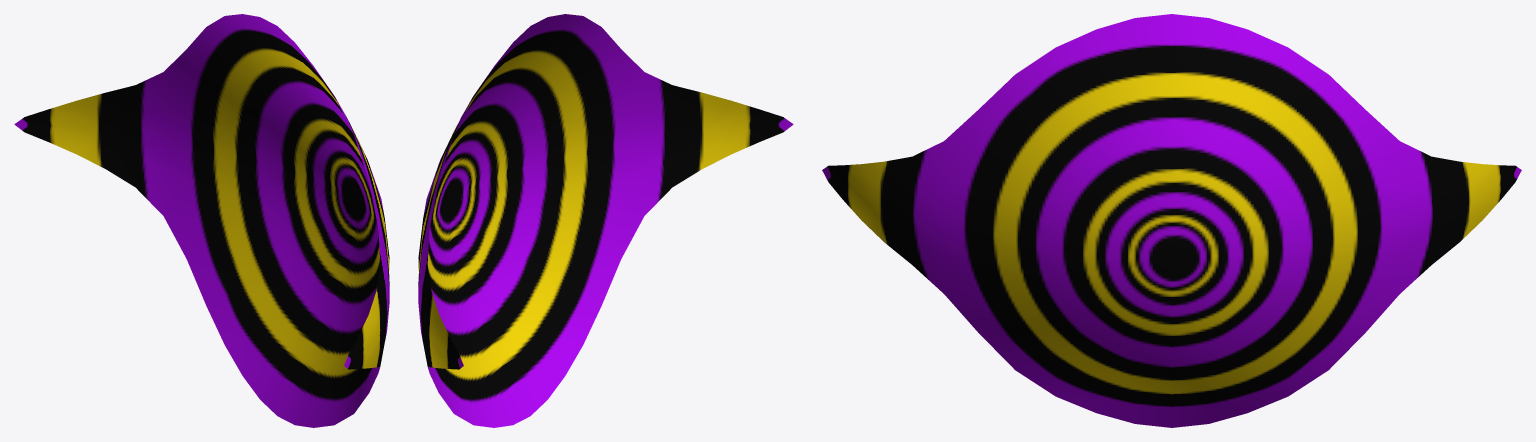
Rendered from EnemyEye02.glb.
The picture shows the model from 3 angles, left to right: view 1: azimuth 30°, elevation 25°; view 2: azimuth 150°, elevation 25°; view 3: azimuth 270°, elevation 25°; orthographic projection. The views are drawn at different scales.
Parts seen in each view (by area): view 1: Sphere.001; view 2: Sphere.001; view 3: Sphere.001.
Boxes of the visible parts, left/top/right/bottom form: Sphere.001: left=14, top=14, right=389, bottom=427; Sphere.001: left=418, top=14, right=793, bottom=427; Sphere.001: left=822, top=14, right=1521, bottom=427.
Bounding box in the file's own units: 0.581 × 1.21 × 1.86.
1 material, 1 textured.
